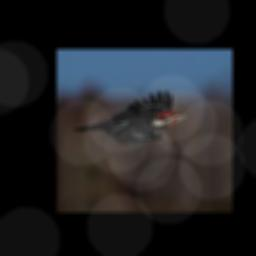Woodpecker: (73, 89, 191, 144)
